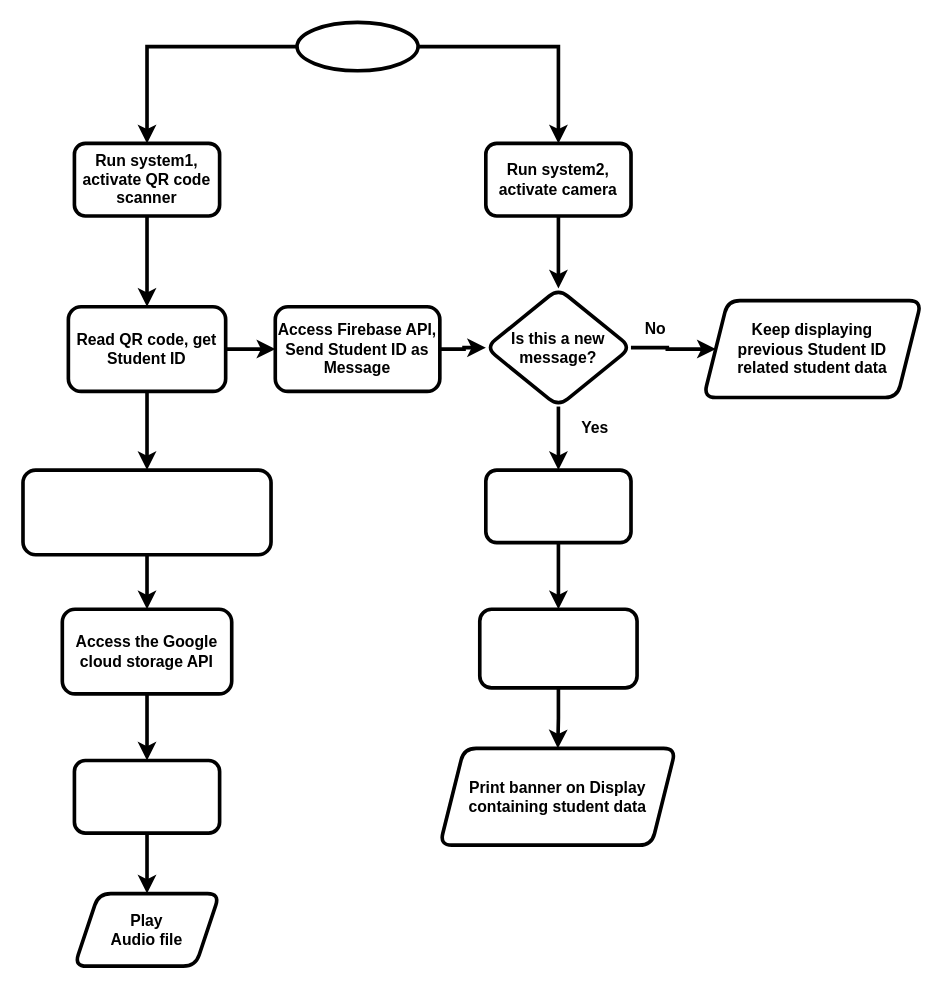
Some shapes in this 944 by 989 pixel diagram are drawn without their labels. Here are the shapes that lost their labels. From the top down, the centre of each, then its label:
At [357,46]: "Start".
At [146,512]: "Access anonymized Audio file based on Student ID by reverse encoding".
At [557,506]: "Access bigquery API".
At [557,648]: "Based on Student ID access data".
At [146,796]: "Get the Audio file".
